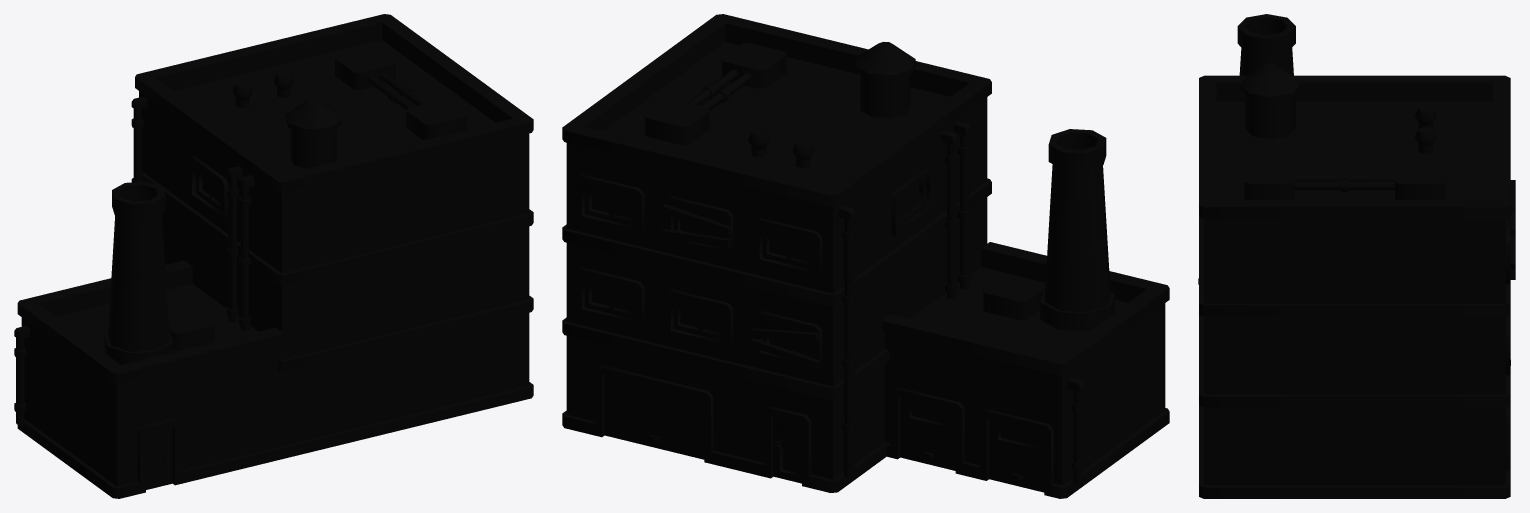
The model's file is building-b.glb.
3 views of the same model, side by side, from view 1: azimuth 30°, elevation 25°; view 2: azimuth 150°, elevation 25°; view 3: azimuth 270°, elevation 25° (orthographic). The views are drawn at different scales.
Visible parts, largest first — view 1: building-b; view 2: building-b; view 3: building-b.
Part boxes in pixels (bbox=[...]): building-b: bbox=[14, 14, 533, 498]; building-b: bbox=[562, 14, 1169, 498]; building-b: bbox=[1198, 14, 1515, 498].
Bounding box in the file's own units: 2.08 × 1.47 × 1.26.
Materials: 1 (1 with a texture image).
